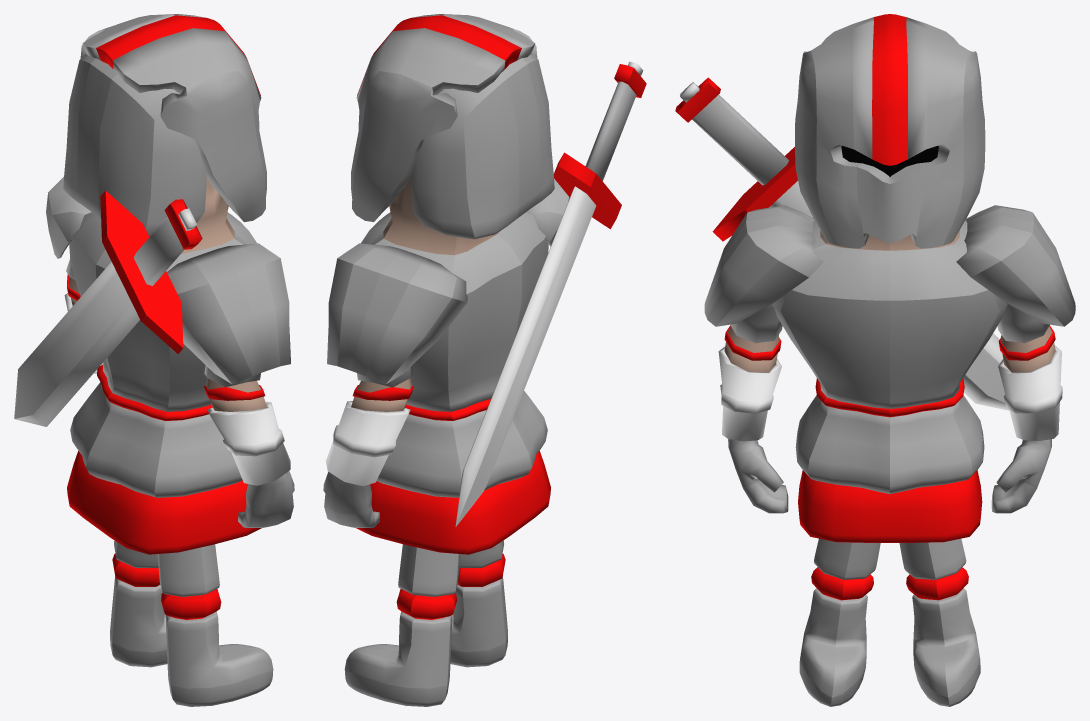
Rendered from knight 1.glb.
3 renders of one model, left to right at view 1: azimuth 30°, elevation 25°; view 2: azimuth 150°, elevation 25°; view 3: azimuth 270°, elevation 25°, orthographic. The views are drawn at different scales.
Parts seen in each view (by area): view 1: Cube.012, Cube.010, Cube.009; view 2: Cube.012, Cube.010, Cube.009; view 3: Cube.012, Cube.010, Cube.009.
Boxes of the visible parts, bbox=[...] form: Cube.012: bbox=[14, 14, 294, 706]; Cube.010: bbox=[67, 274, 265, 554]; Cube.009: bbox=[96, 15, 261, 619]; Cube.012: bbox=[323, 14, 643, 706]; Cube.010: bbox=[352, 385, 550, 554]; Cube.009: bbox=[356, 15, 646, 619]; Cube.012: bbox=[680, 17, 1075, 706]; Cube.010: bbox=[724, 325, 1055, 542]; Cube.009: bbox=[675, 14, 968, 600].
Size of the model in its own units: 0.6145 by 1.99 by 1.12.
